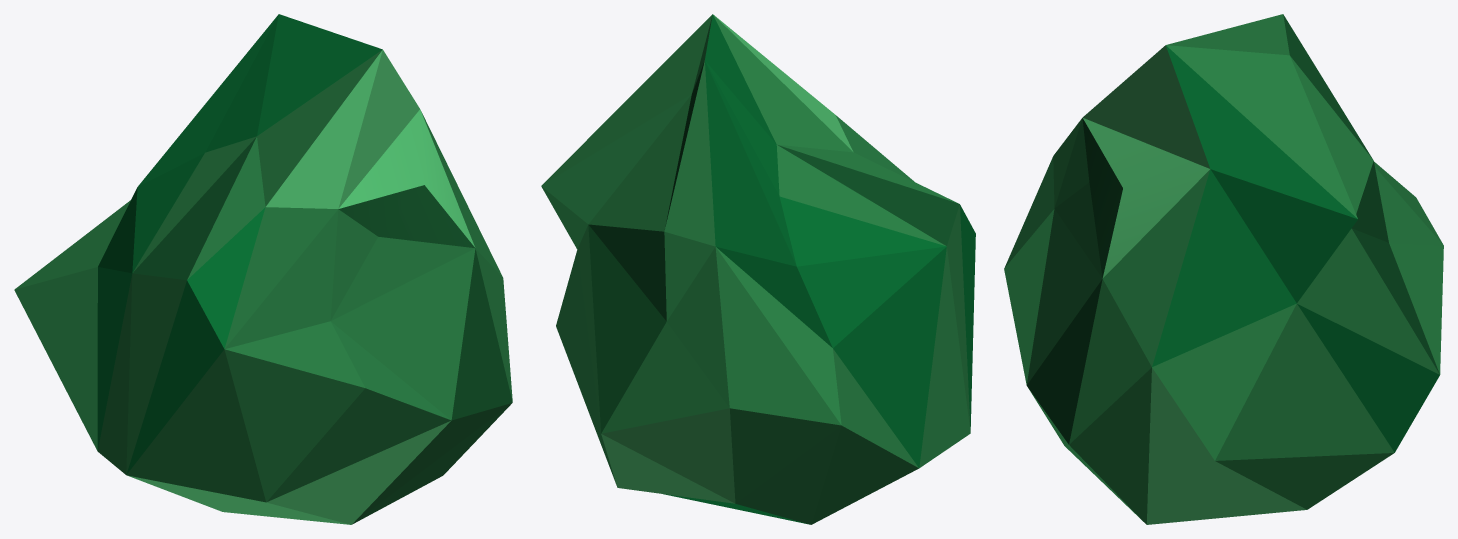
Rendered from bush.fbx.
3 views of the same model, side by side, from view 1: azimuth 30°, elevation 25°; view 2: azimuth 150°, elevation 25°; view 3: azimuth 270°, elevation 25° (orthographic). The views are drawn at different scales.
Visible parts, largest first — view 1: bush; view 2: bush; view 3: bush.
Part boxes in pixels (x1,y1,x2,y2): bush: (14,14,512,524); bush: (541,14,975,524); bush: (1004,14,1443,524).
Bounding box in the file's own units: 167 × 178 × 154.
